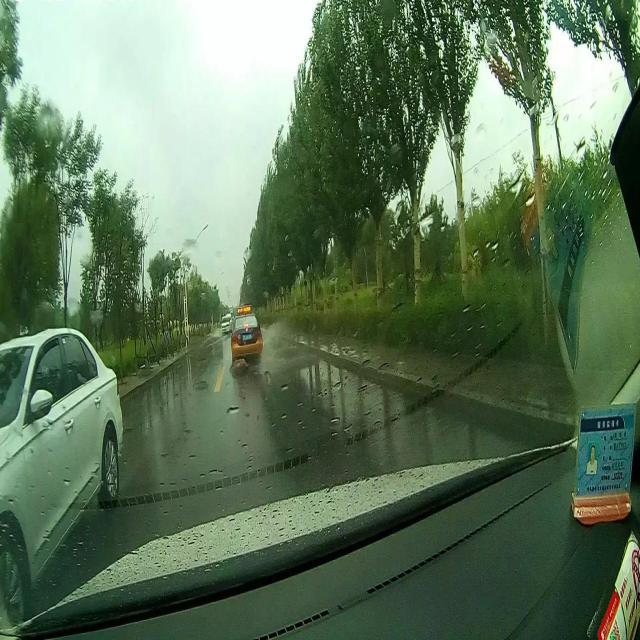car: (1, 330, 128, 602), (228, 306, 263, 360)
